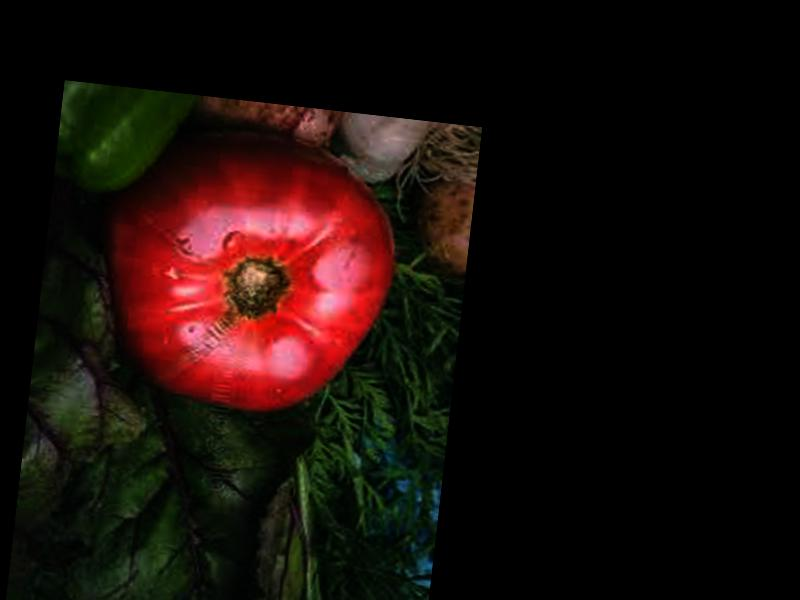Tomato: (82, 112, 408, 424)
